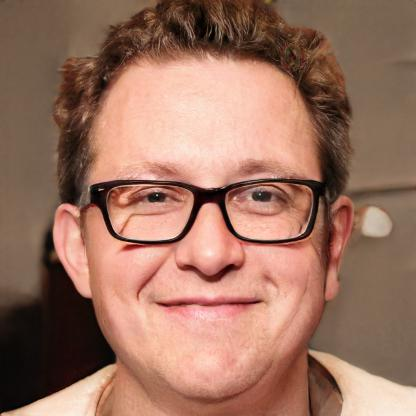glasses: (80, 172, 329, 247)
